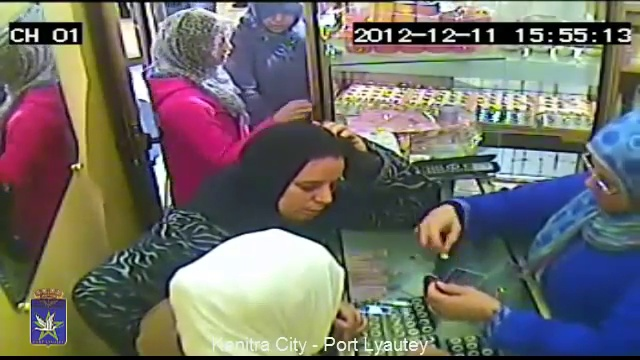face: (282, 159, 340, 222), (580, 150, 627, 219), (259, 5, 301, 38)
